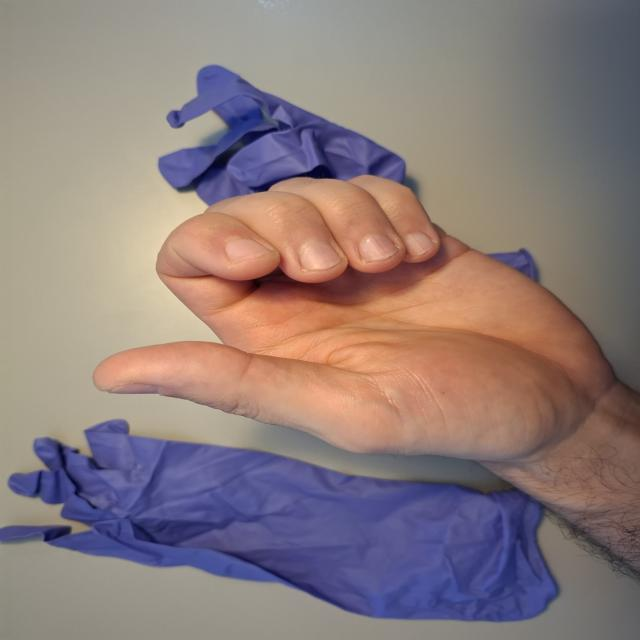glove_off: (89, 171, 621, 477)
